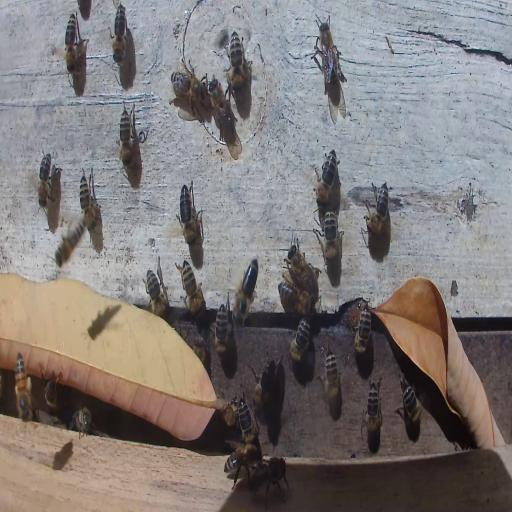nonpollenbee: (206, 75, 236, 146), (176, 178, 204, 247), (249, 454, 290, 500), (315, 21, 340, 88), (321, 346, 344, 414), (225, 441, 259, 486), (313, 148, 338, 207), (54, 220, 85, 267), (177, 259, 203, 315), (287, 240, 316, 290), (365, 181, 391, 236), (251, 356, 276, 413), (318, 208, 342, 266), (171, 64, 204, 103), (78, 171, 99, 232), (88, 300, 121, 338), (398, 378, 422, 430), (145, 260, 168, 314), (278, 281, 313, 316), (228, 30, 246, 96), (111, 4, 129, 66), (353, 300, 373, 353), (118, 106, 135, 168), (364, 380, 382, 438), (212, 303, 230, 361), (288, 316, 310, 363), (237, 399, 258, 444), (64, 12, 79, 74), (37, 149, 52, 207), (70, 407, 94, 439), (44, 379, 58, 412)
pollenbee: (229, 254, 261, 328), (13, 351, 33, 421)
